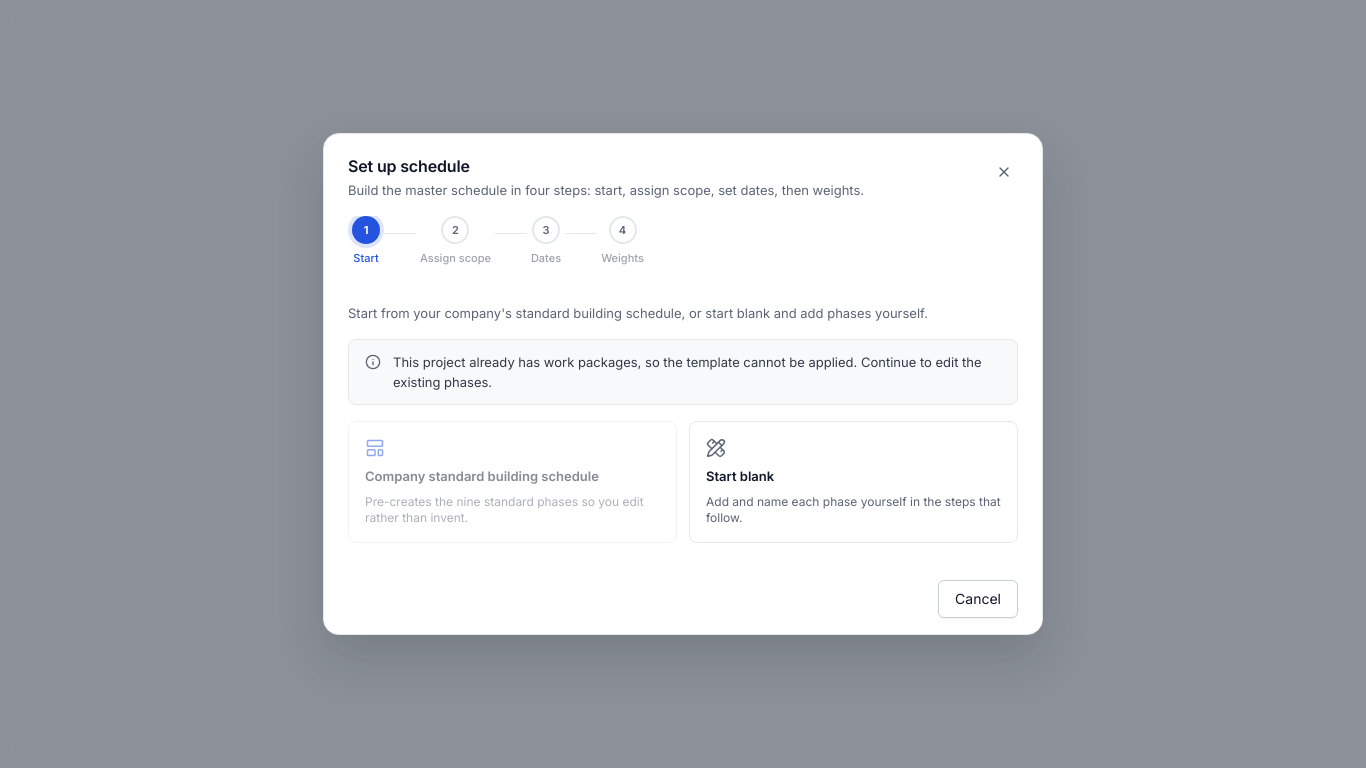
Test: ScheduleSetupWizard › walks to step 2 and warns about unassigned BOQ items
The width and height of the screenshot is (1366, 768).
Click the text "Start blank". click: (740, 476)
box: left=706, top=466, right=774, bottom=486
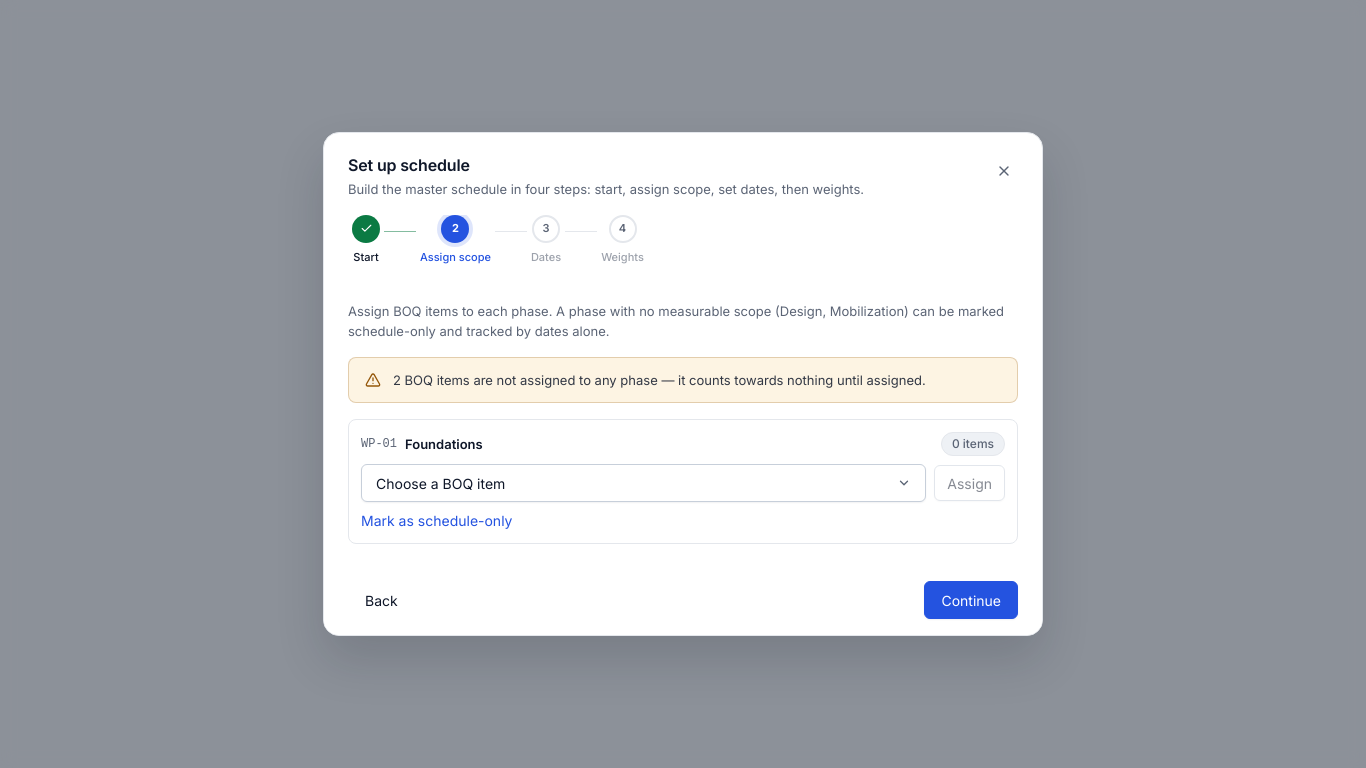
Result: the text "2 BOQ items are not assigned" is shown at left=393, top=372, right=926, bottom=388
Result: the button "Assign" is shown at left=934, top=465, right=1005, bottom=501
